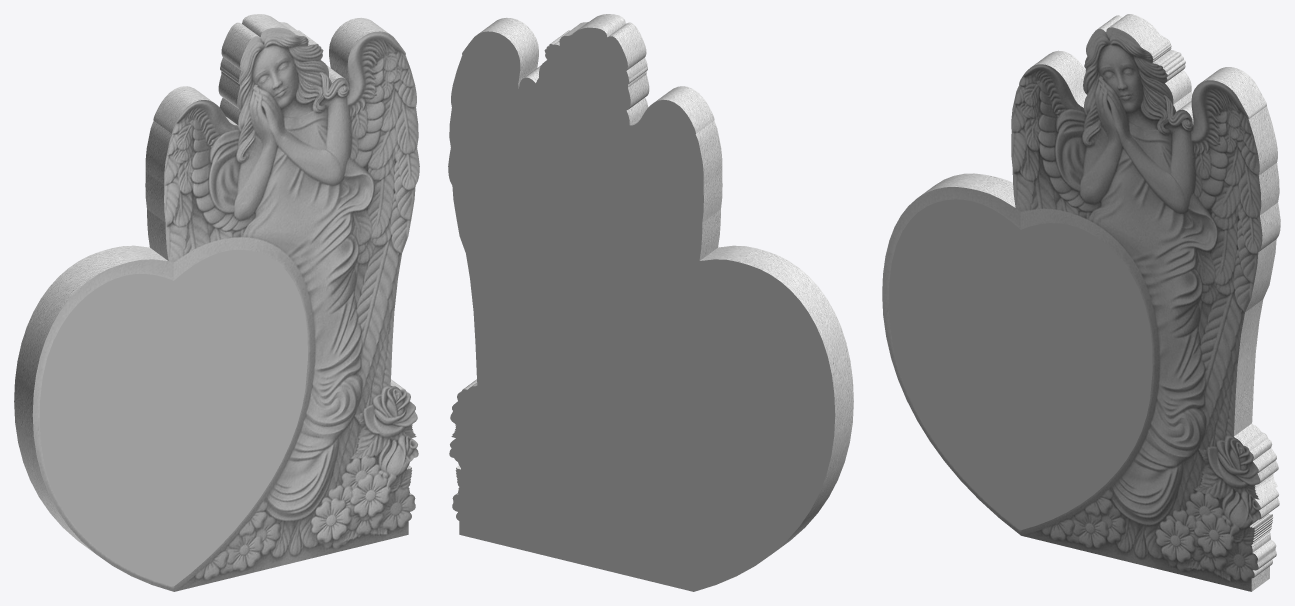
File: cn7d01e9f0b1_tkf.glb
3 views of the same model, side by side, from view 1: azimuth 30°, elevation 25°; view 2: azimuth 150°, elevation 25°; view 3: azimuth 330°, elevation 25° (orthographic).
Visible parts, largest first — view 1: Pam-d02-099_2_notexture, Pam-d02-099; view 2: Pam-d02-099, Pam-d02-099_2_notexture; view 3: Pam-d02-099_2_notexture, Pam-d02-099.
Boxes of the visible parts, left/top/right/bottom form: Pam-d02-099_2_notexture: left=14, top=14, right=419, bottom=591; Pam-d02-099: left=40, top=249, right=307, bottom=586; Pam-d02-099: left=448, top=27, right=835, bottom=591; Pam-d02-099_2_notexture: left=455, top=14, right=853, bottom=552; Pam-d02-099_2_notexture: left=882, top=14, right=1280, bottom=591; Pam-d02-099: left=889, top=199, right=1152, bottom=530.
Size of the model in its own units: 0.6 by 0.8 by 0.05.
Materials: 1 (1 with a texture image).
